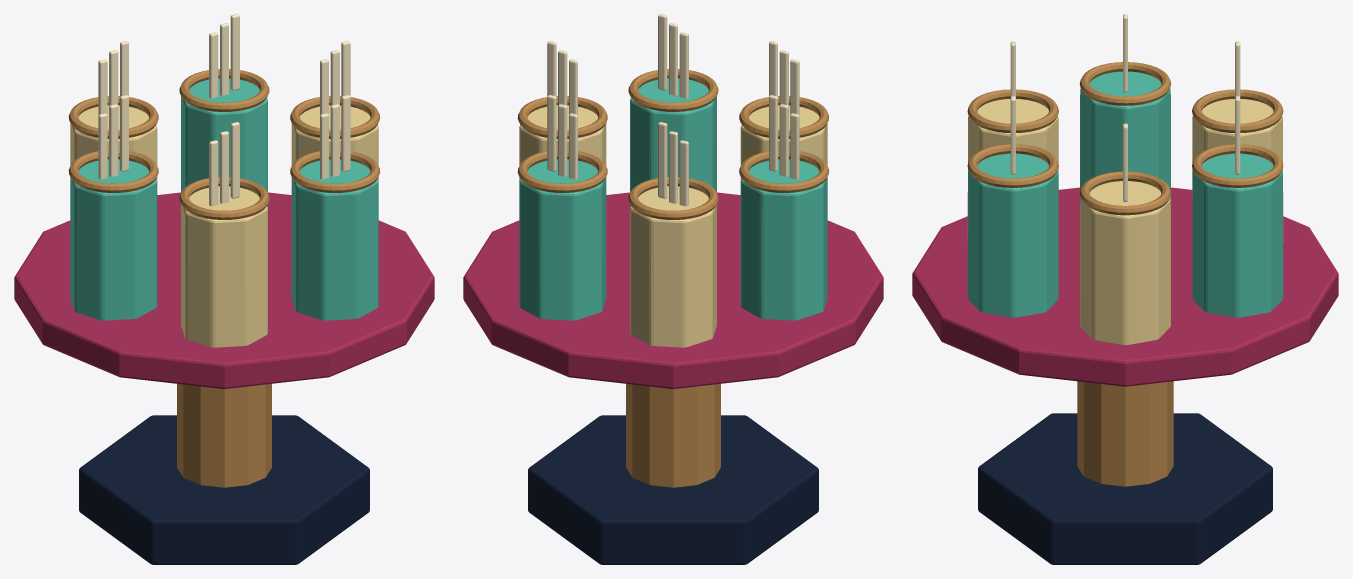
The model's file is LuckyDraw.fbx.
The picture shows the model from 3 angles, left to right: view 1: azimuth 30°, elevation 25°; view 2: azimuth 150°, elevation 25°; view 3: azimuth 270°, elevation 25°; orthographic projection.
Visible parts, largest first — view 1: LuckyDraw.Mesh, LuckyDraw.Tube5.Mesh, LuckyDraw.Tube3.Mesh, LuckyDraw.Tube4.Mesh, LuckyDraw.Tube1.Mesh, LuckyDraw.Tube0.Mesh, LuckyDraw.Tube2.Mesh; view 2: LuckyDraw.Mesh, LuckyDraw.Tube1.Mesh, LuckyDraw.Tube3.Mesh, LuckyDraw.Tube2.Mesh, LuckyDraw.Tube5.Mesh, LuckyDraw.Tube0.Mesh, LuckyDraw.Tube4.Mesh; view 3: LuckyDraw.Mesh, LuckyDraw.Tube1.Mesh, LuckyDraw.Tube5.Mesh, LuckyDraw.Tube0.Mesh, LuckyDraw.Tube3.Mesh, LuckyDraw.Tube2.Mesh, LuckyDraw.Tube4.Mesh.
Boxes of the visible parts, x1,y1,x2,y2 form: LuckyDraw.Mesh: (14,192,434,564); LuckyDraw.Tube5.Mesh: (290,95,380,320); LuckyDraw.Tube3.Mesh: (68,95,158,320); LuckyDraw.Tube4.Mesh: (179,122,269,347); LuckyDraw.Tube1.Mesh: (179,14,269,207); LuckyDraw.Tube0.Mesh: (290,41,380,180); LuckyDraw.Tube2.Mesh: (68,41,158,180); LuckyDraw.Mesh: (463,192,883,564); LuckyDraw.Tube1.Mesh: (517,95,607,320); LuckyDraw.Tube3.Mesh: (739,95,829,320); LuckyDraw.Tube2.Mesh: (628,122,718,347); LuckyDraw.Tube5.Mesh: (628,14,718,207); LuckyDraw.Tube0.Mesh: (517,41,607,180); LuckyDraw.Tube4.Mesh: (739,41,829,180); LuckyDraw.Mesh: (912,187,1338,564); LuckyDraw.Tube1.Mesh: (1192,96,1283,317); LuckyDraw.Tube5.Mesh: (967,96,1058,317); LuckyDraw.Tube0.Mesh: (1079,123,1171,345); LuckyDraw.Tube3.Mesh: (1079,14,1171,203); LuckyDraw.Tube2.Mesh: (1192,41,1283,243); LuckyDraw.Tube4.Mesh: (967,41,1058,243).
Bounding box in the file's own units: 204 × 236 × 204.
